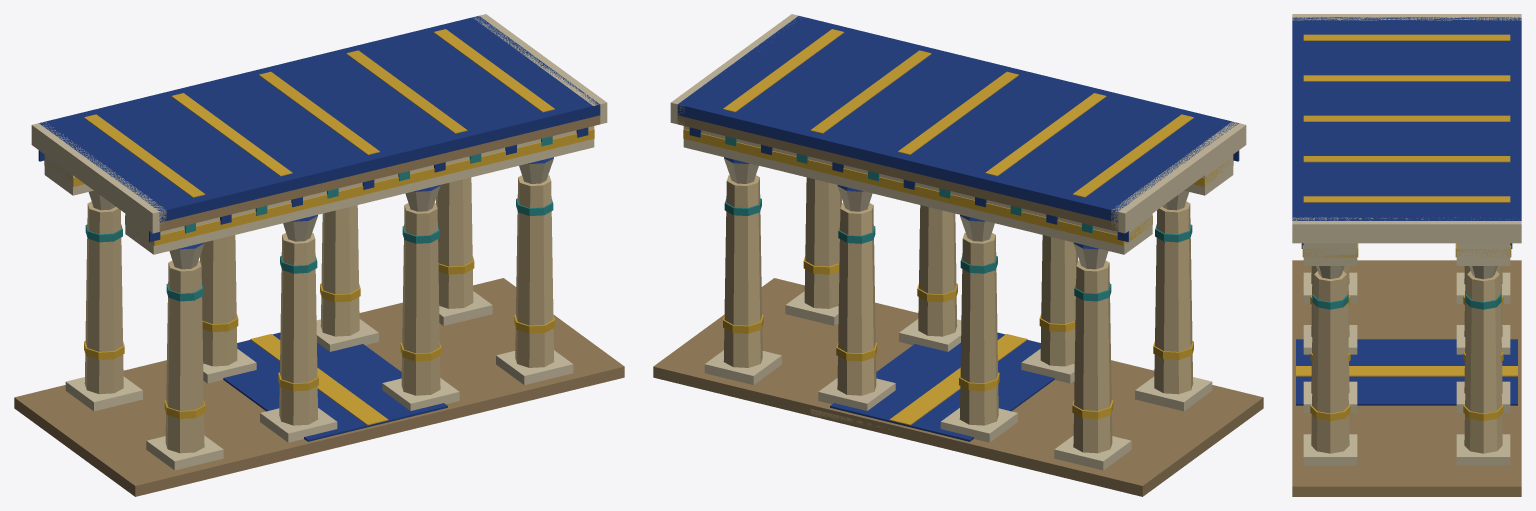
Rendered from Decor_PharaohPyramid_Colonnade.fbx.
3 renders of one model, left to right at view 1: azimuth 30°, elevation 25°; view 2: azimuth 150°, elevation 25°; view 3: azimuth 270°, elevation 25°, orthographic. The views are drawn at different scales.
Parts seen in each view (by area): view 1: Colonnade_Body; view 2: Colonnade_Body; view 3: Colonnade_Body.
Part boxes in pixels (bbox=[...]): Colonnade_Body: bbox=[14, 14, 624, 496]; Colonnade_Body: bbox=[653, 14, 1263, 496]; Colonnade_Body: bbox=[1292, 14, 1521, 496].
Bounding box in the file's own units: 28 × 15.3 × 12.
